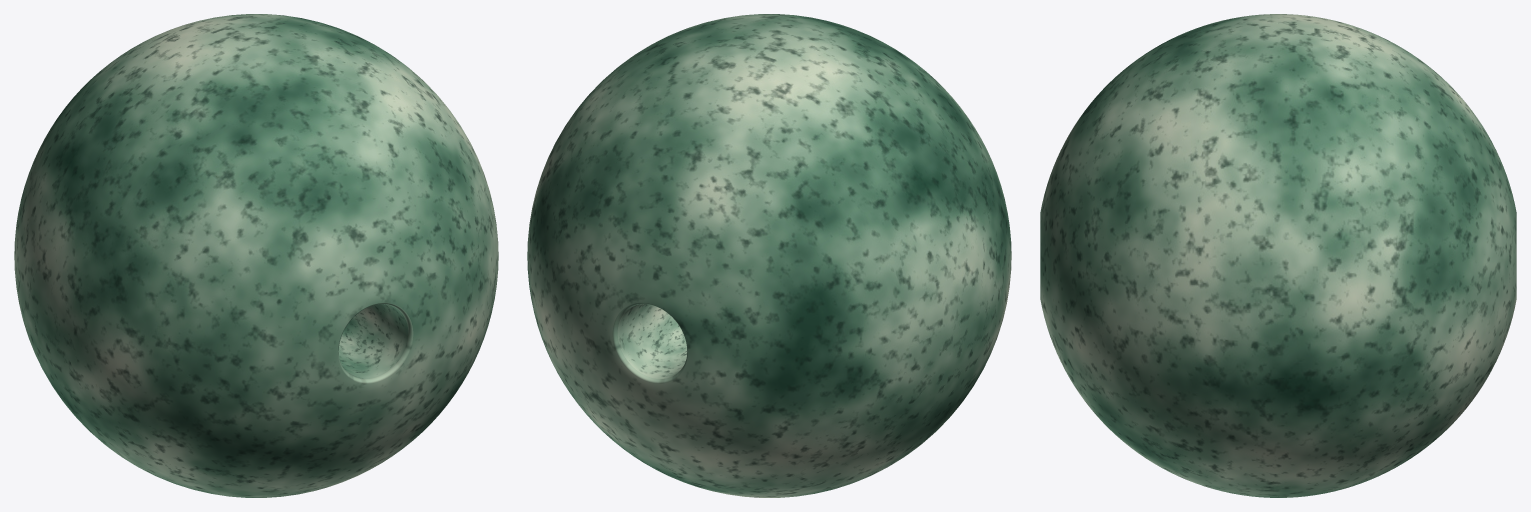
The model's file is emerald-6mm.glb.
3 renders of one model, left to right at view 1: azimuth 30°, elevation 25°; view 2: azimuth 150°, elevation 25°; view 3: azimuth 270°, elevation 25°, orthographic.
Parts seen in each view (by area): view 1: emerald.001; view 2: emerald.001; view 3: emerald.001.
Boxes of the visible parts, x1,y1,x2,y2 form: emerald.001: (14, 14, 498, 497); emerald.001: (527, 14, 1011, 497); emerald.001: (1040, 14, 1516, 497).
Bounding box in the file's own units: 0.006 × 0.006 × 0.0059.
1 material, 1 textured.
